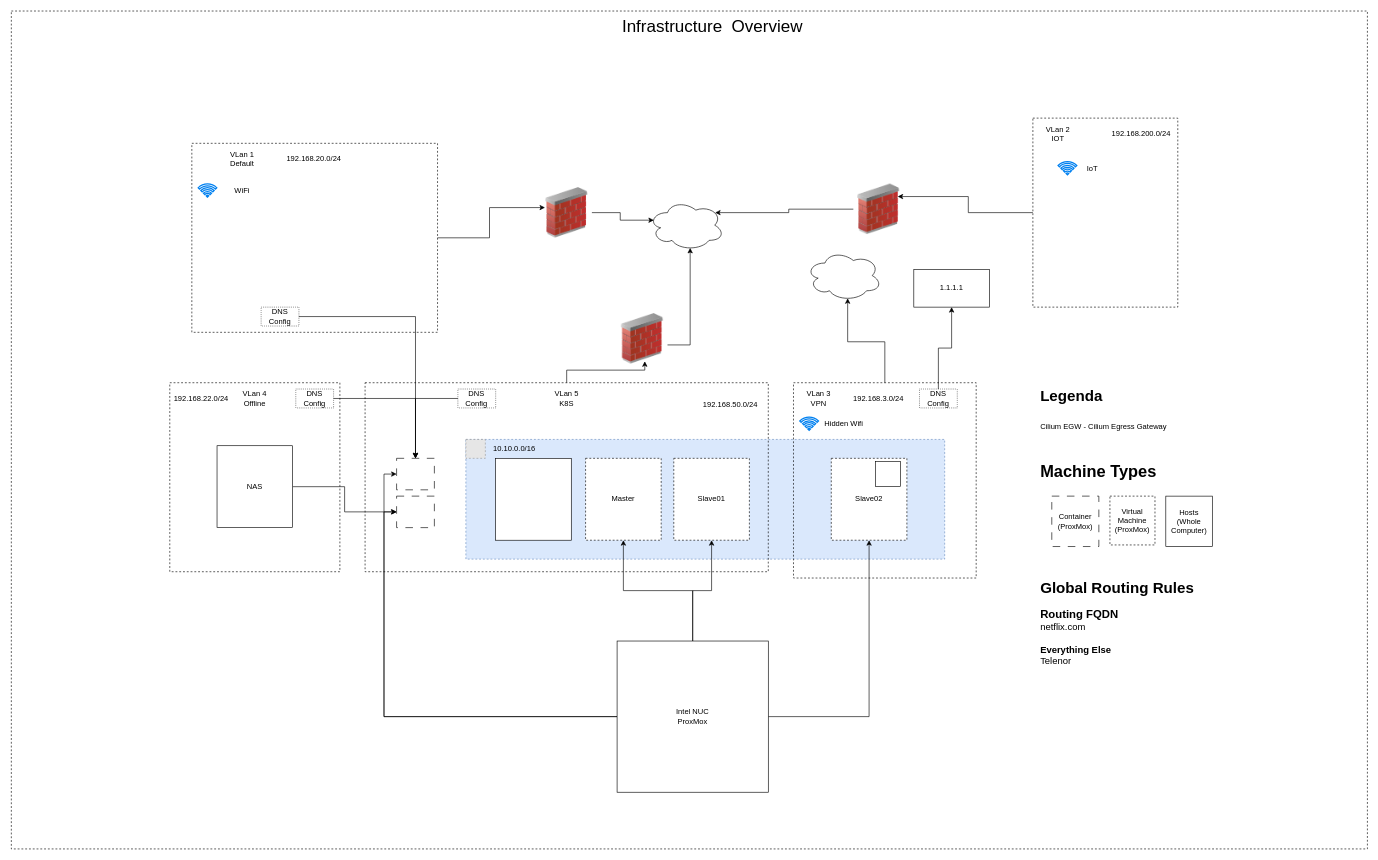
This 1378x860 diagram has some shape labels left out. Grey dashed boxes stand in for pictures. The centre of each missing label's shape, as x and y in pixels:
"Adguard (DNS)" goes at pixel 415 474.
"Cilium EGW" goes at pixel 888 474.
"PI" goes at pixel 533 499.
"Time" goes at pixel 415 511.
"VNP" goes at pixel 843 275.
"WAN" goes at pixel 686 224.
